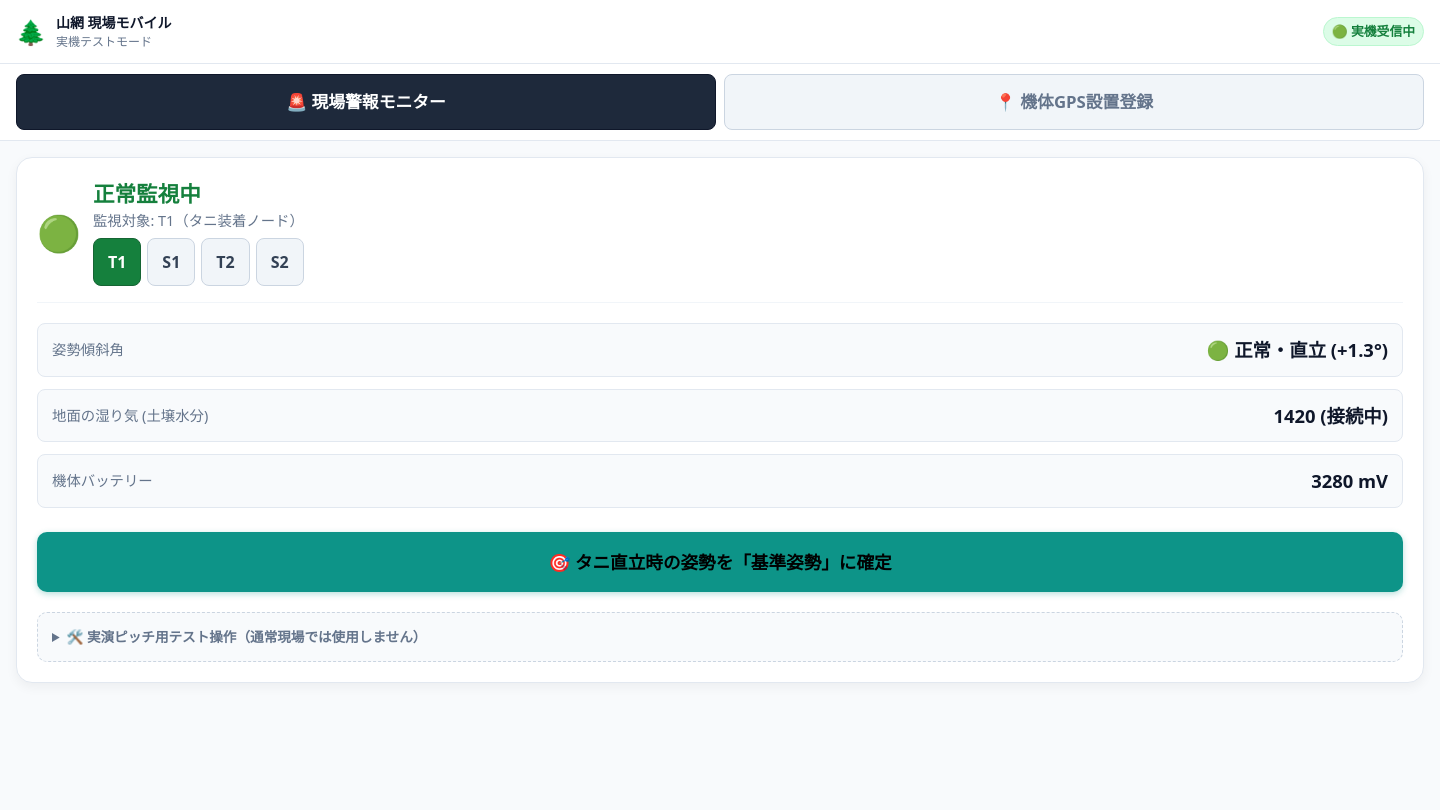
MobileHome › allows setting baseline posture calibration and calculating relative angle
Click the button "🎯 タニ直立時の姿勢を「基準姿勢」に確定": [720, 562] box [37, 532, 1403, 592]
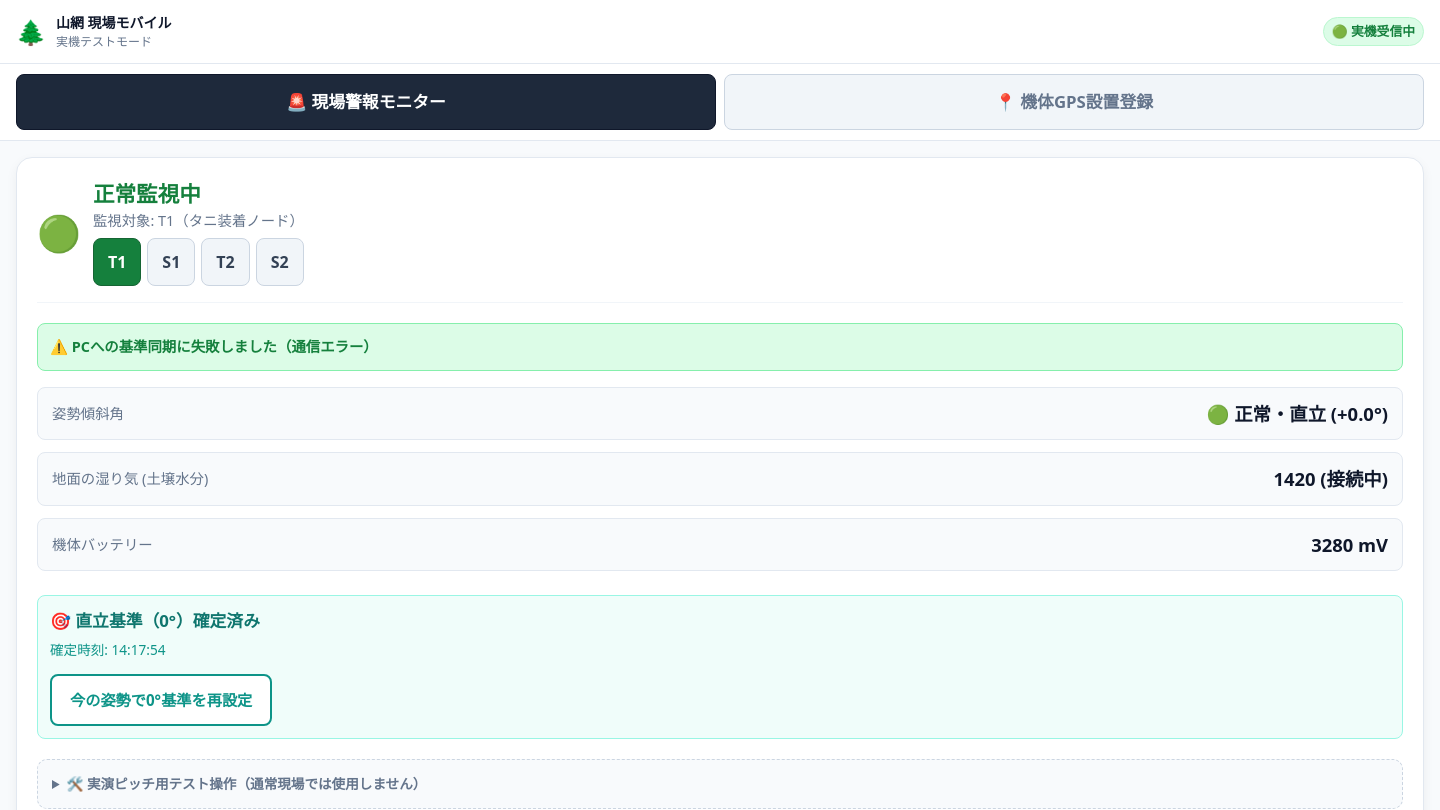
Expected: the text "🟢 正常・直立 (+0.0°)" is shown, [1206, 400, 1388, 427]
Expected: the text "🎯 直立基準（0°）確定済み" is shown, [50, 609, 260, 632]
